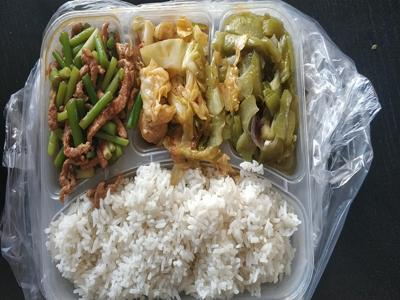rice: (55, 175, 306, 300)
st: (43, 14, 136, 173)
